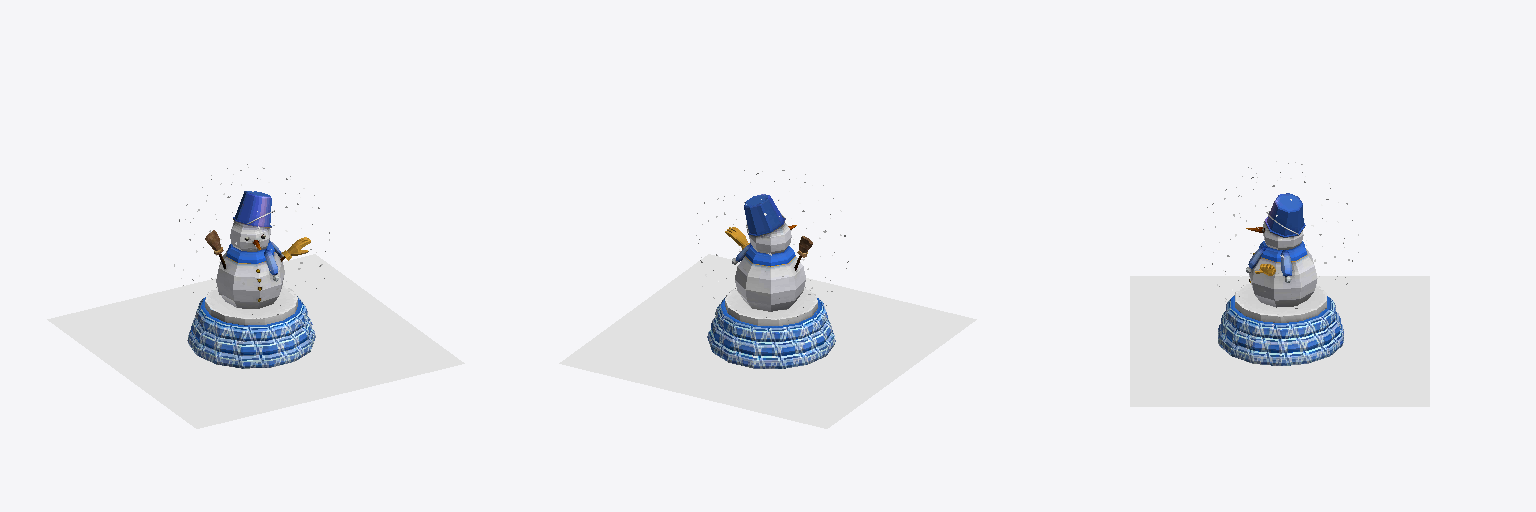
3 renders of one model, left to right at view 1: azimuth 30°, elevation 25°; view 2: azimuth 150°, elevation 25°; view 3: azimuth 270°, elevation 25°, orthographic.
Bounding box in the file's own units: 5.43 × 3.34 × 5.25.
Materials: 4 (3 with a texture image).